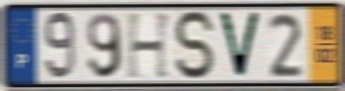2: (265, 11, 305, 80)
9: (41, 9, 78, 83), (85, 11, 124, 81)
H: (125, 10, 175, 82)
S: (171, 8, 218, 83)
V: (216, 10, 264, 81)
